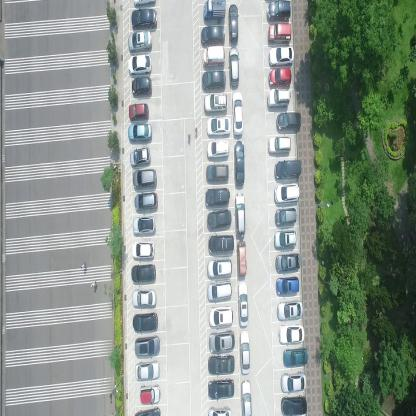car: (130, 7, 158, 30), (208, 378, 234, 402), (133, 335, 161, 357), (131, 262, 156, 286), (278, 322, 304, 345), (206, 257, 233, 279), (209, 331, 236, 353), (275, 252, 301, 274), (281, 394, 307, 416), (275, 158, 302, 179), (275, 299, 302, 320), (280, 371, 307, 392), (208, 234, 235, 255), (207, 306, 234, 327), (132, 312, 159, 333), (234, 191, 246, 238), (237, 281, 249, 328), (268, 21, 291, 45), (202, 0, 227, 22), (139, 381, 161, 406), (127, 122, 152, 144), (269, 45, 295, 66), (206, 209, 232, 230), (275, 112, 302, 132), (274, 183, 301, 203), (231, 92, 243, 137), (238, 330, 250, 375), (208, 355, 235, 375), (130, 288, 157, 308), (234, 139, 245, 187), (202, 45, 226, 67), (204, 92, 228, 114), (201, 69, 226, 90), (127, 54, 152, 75), (128, 31, 153, 52), (200, 25, 226, 45), (205, 187, 231, 207), (135, 361, 161, 381), (228, 46, 240, 89), (132, 214, 156, 235), (266, 2, 291, 22), (275, 276, 300, 296), (207, 281, 232, 301), (228, 2, 239, 46), (130, 75, 152, 97), (268, 67, 292, 87), (267, 88, 291, 108), (268, 134, 292, 154), (274, 229, 298, 249), (133, 191, 158, 210), (132, 169, 157, 188), (132, 240, 155, 260), (236, 240, 248, 278), (206, 117, 230, 136), (206, 139, 230, 158), (282, 348, 307, 366), (205, 163, 230, 181), (274, 207, 297, 226), (241, 379, 253, 415), (129, 102, 150, 121), (129, 148, 151, 166), (208, 405, 231, 415), (134, 407, 162, 415), (132, 0, 158, 8)
